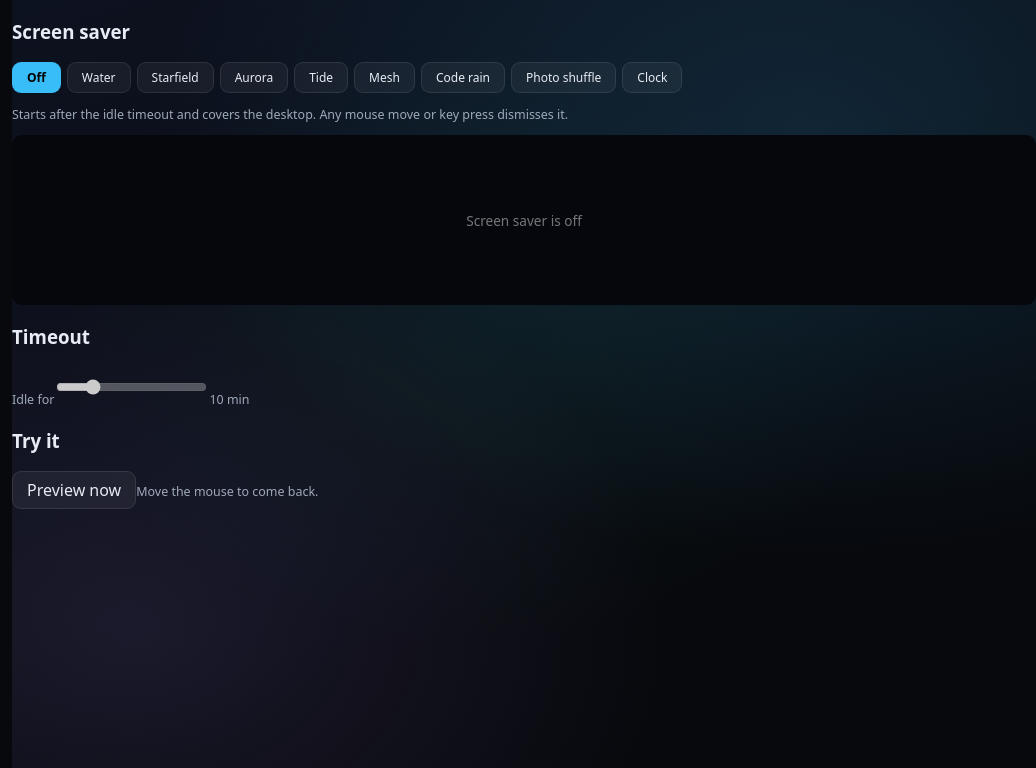
Test case: SaverPanel › photos shows the slideshow section; clock shows its note; off hides speed
This screenshot has width=1036, height=768.
Click the radio button labelled "Photo shuffle".
click(564, 78)  # box [511,62,616,93]
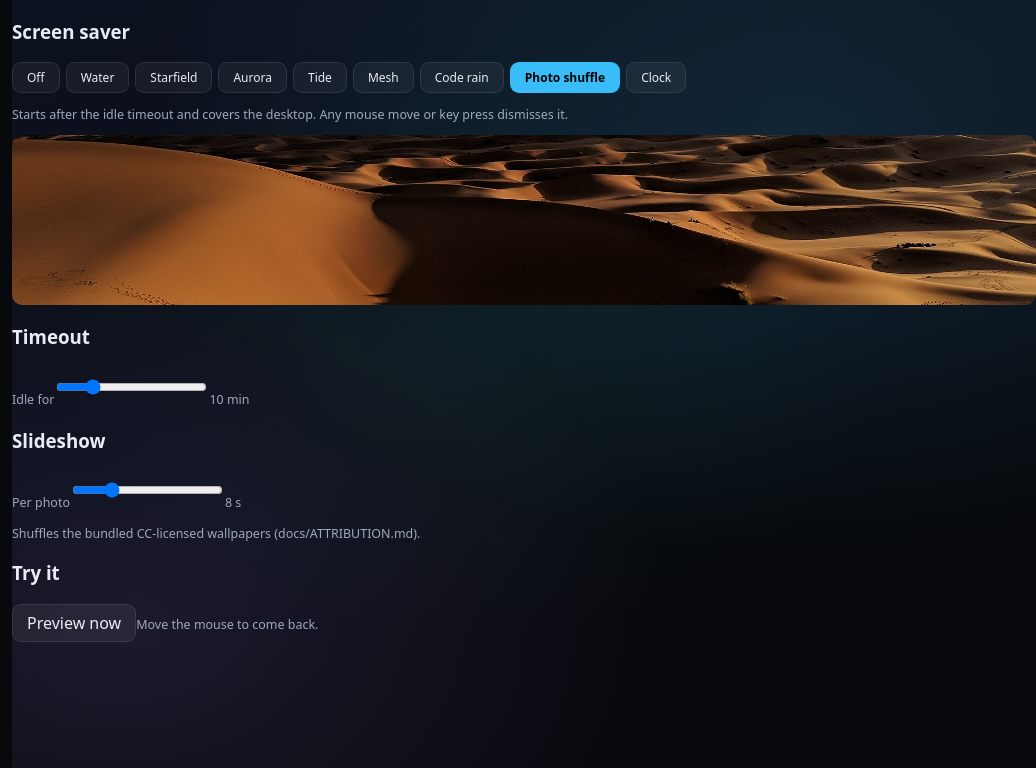
Expected: the text "Per photo" is shown, [12,494,70,511]
Set the slider with id "saver-photo" to "12" at (125, 490), box [72,473,223,507]
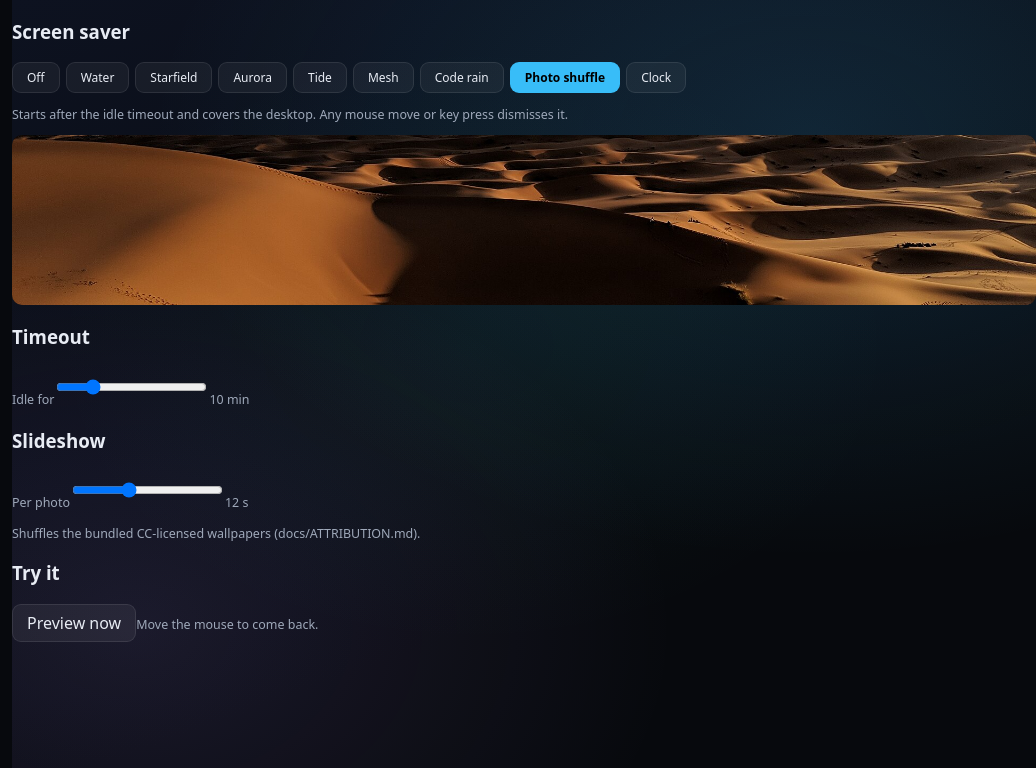
Click the radio button labelled "Clock".
click(656, 78)  # box [626,62,686,93]
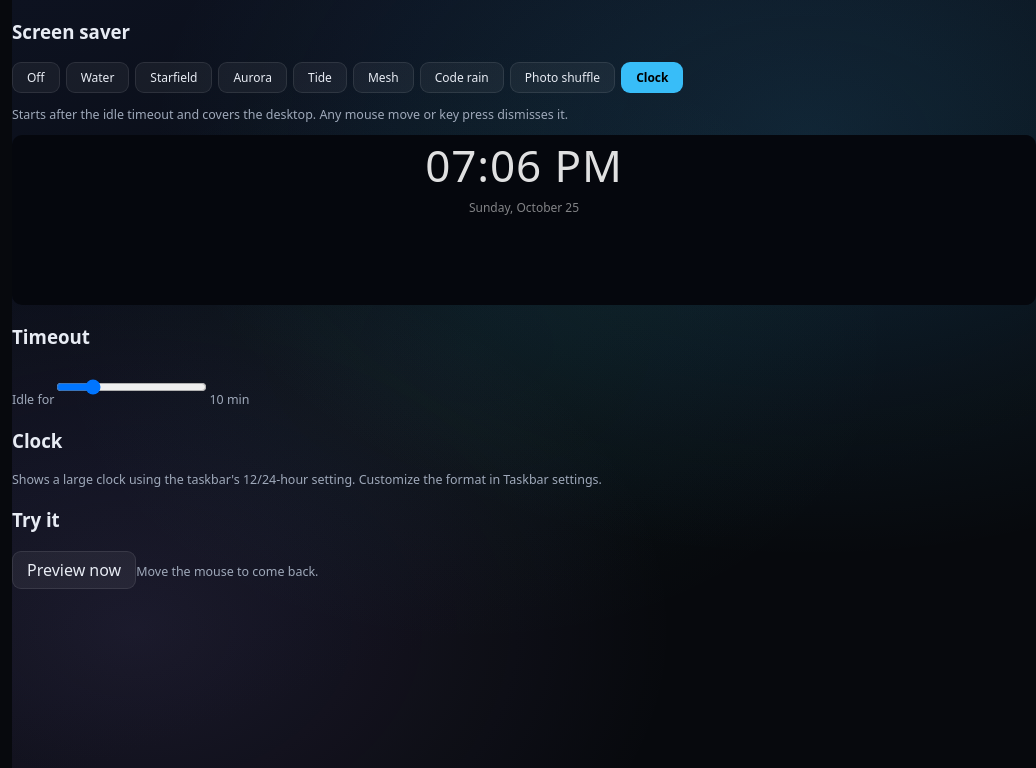
Expected: the text "taskbar's 12/24-hour setting" is shown, [12,471,602,488]
